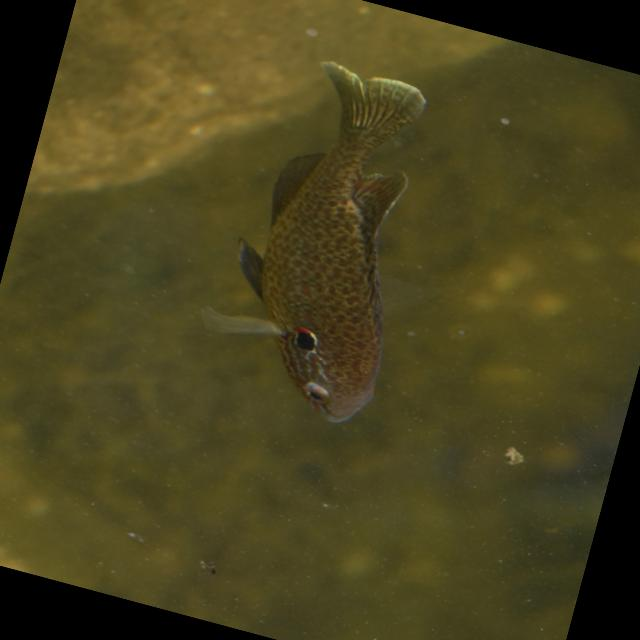Gunes Levregi: (178, 43, 456, 433)
